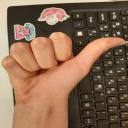ThumbsUp: (1, 26, 127, 98)
